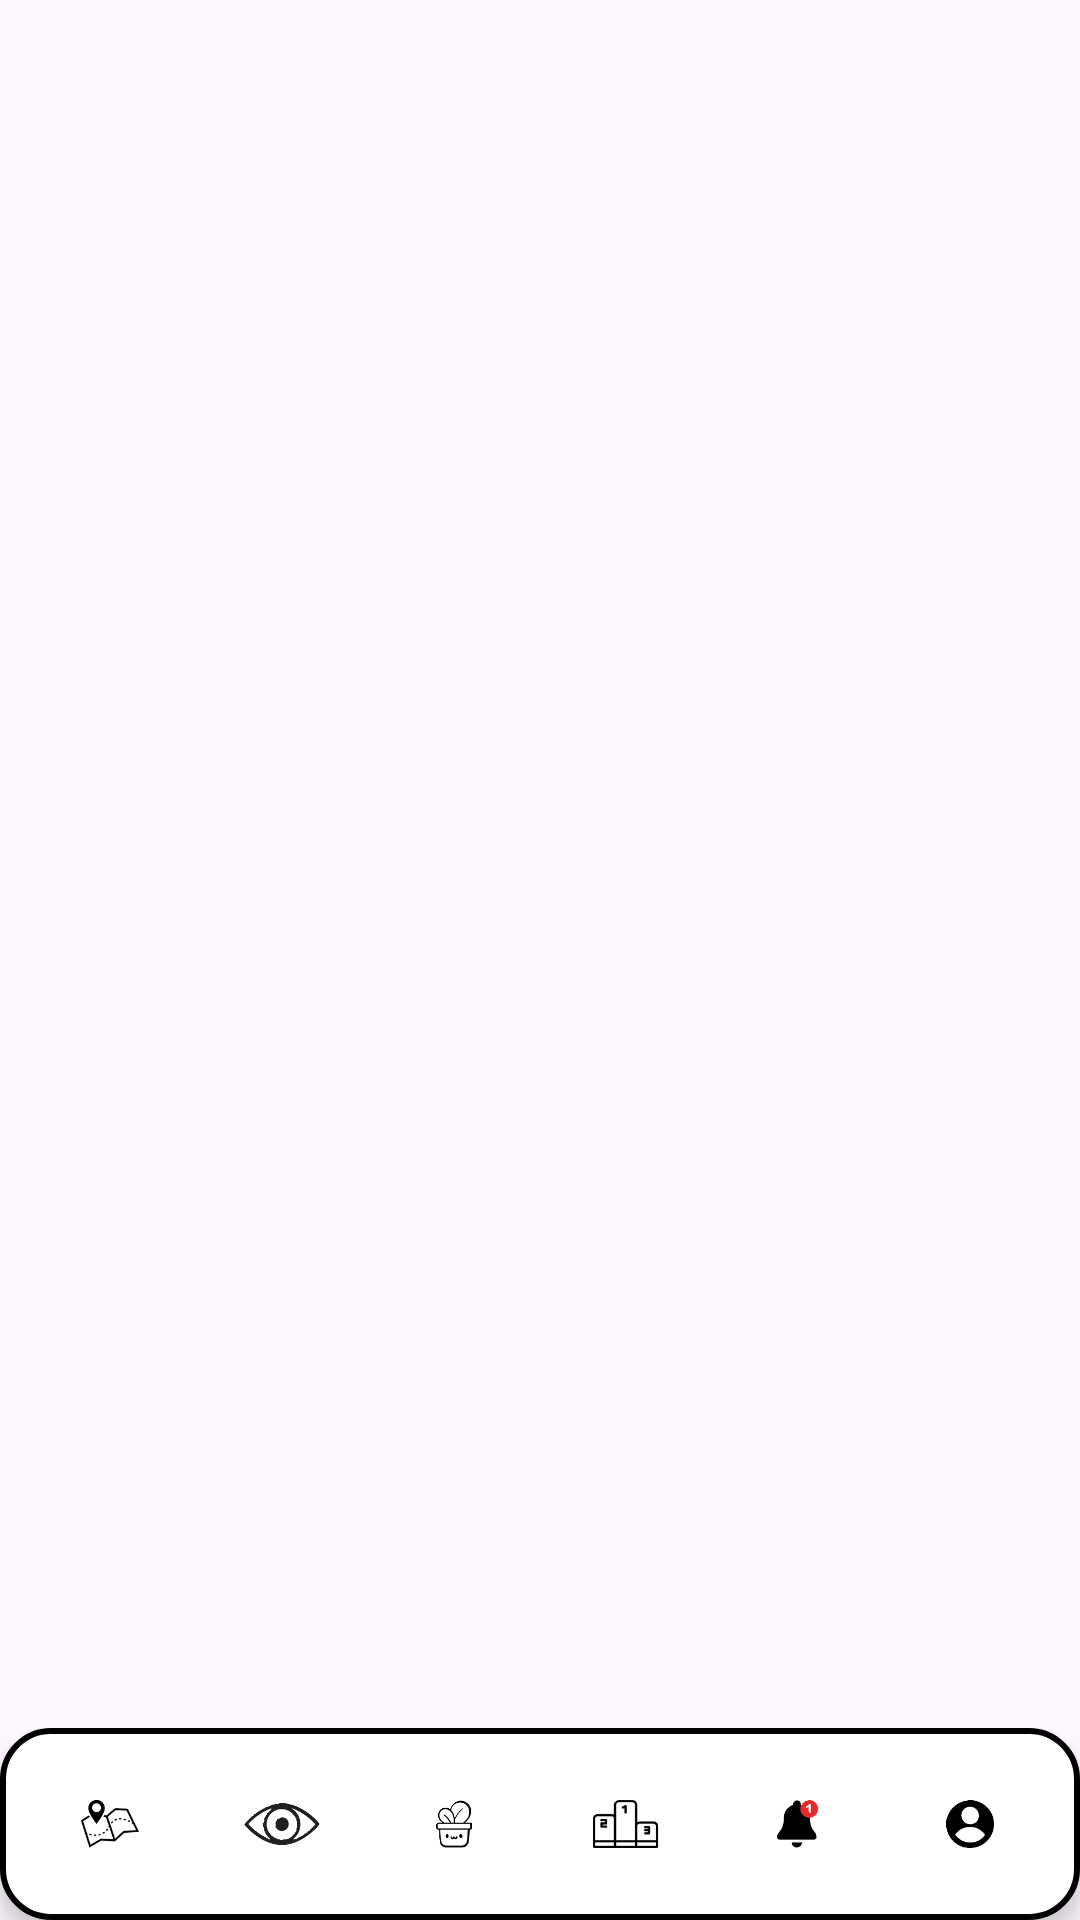

Icon bounding boxes for this 1080 × 1920 phone screenshot, format (x1,y1,x2,y2):
map: (81,1800,139,1848)
notifications: (777,1800,818,1848)
personal: (946,1800,994,1848)
rank: (593,1800,658,1848)
tracking: (244,1803,320,1845)
